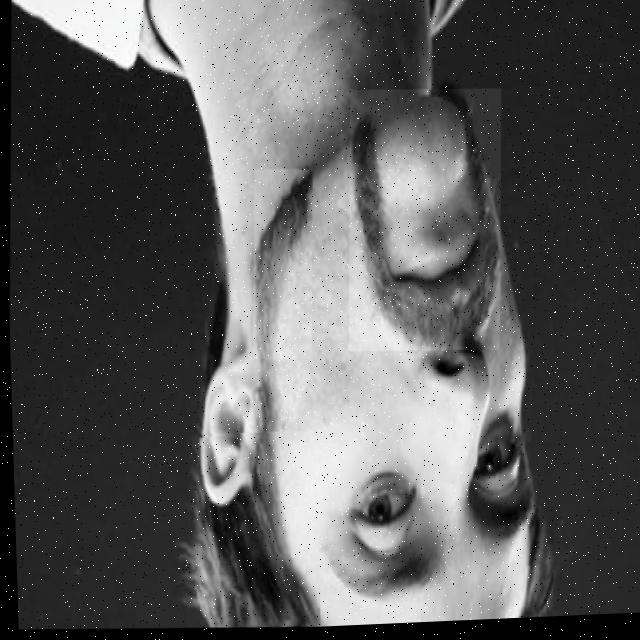beard: (348, 93, 498, 354), (252, 172, 311, 361)
hair: (183, 437, 316, 629), (518, 512, 549, 622)
